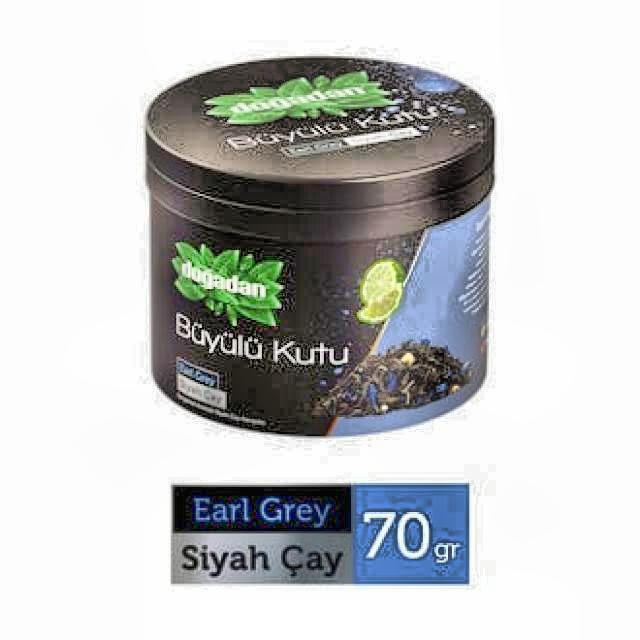plastic: (143, 56, 497, 438)
